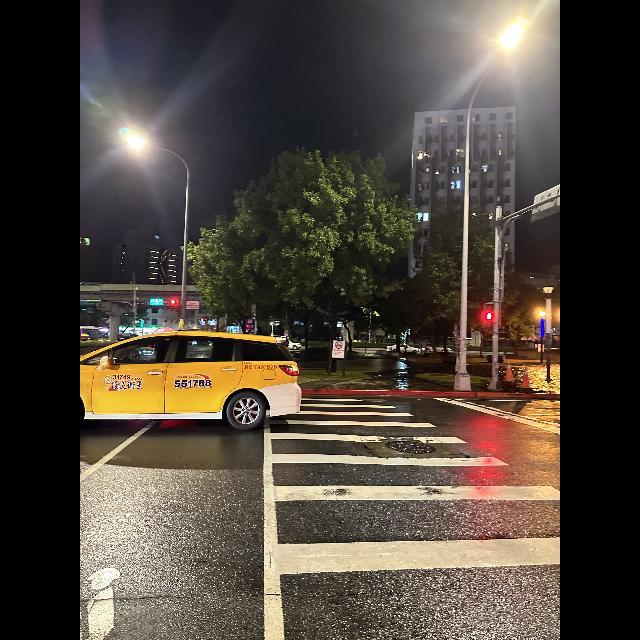sidewalk: (266, 398, 556, 640)
